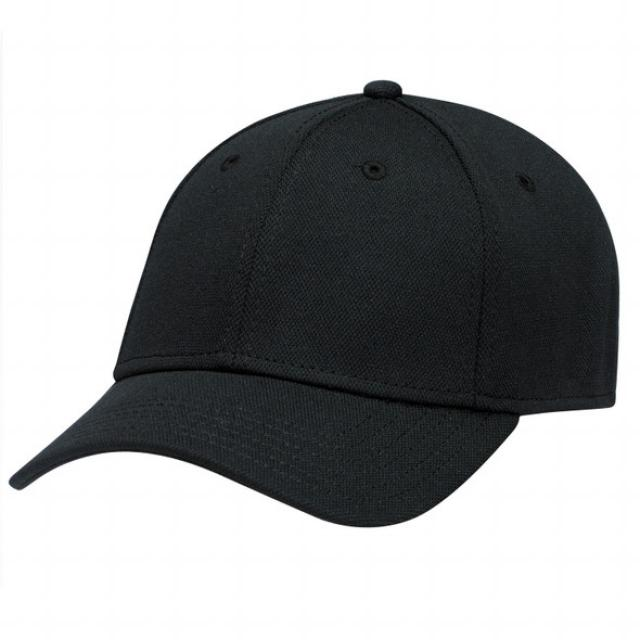Cap: (6, 77, 631, 514)
